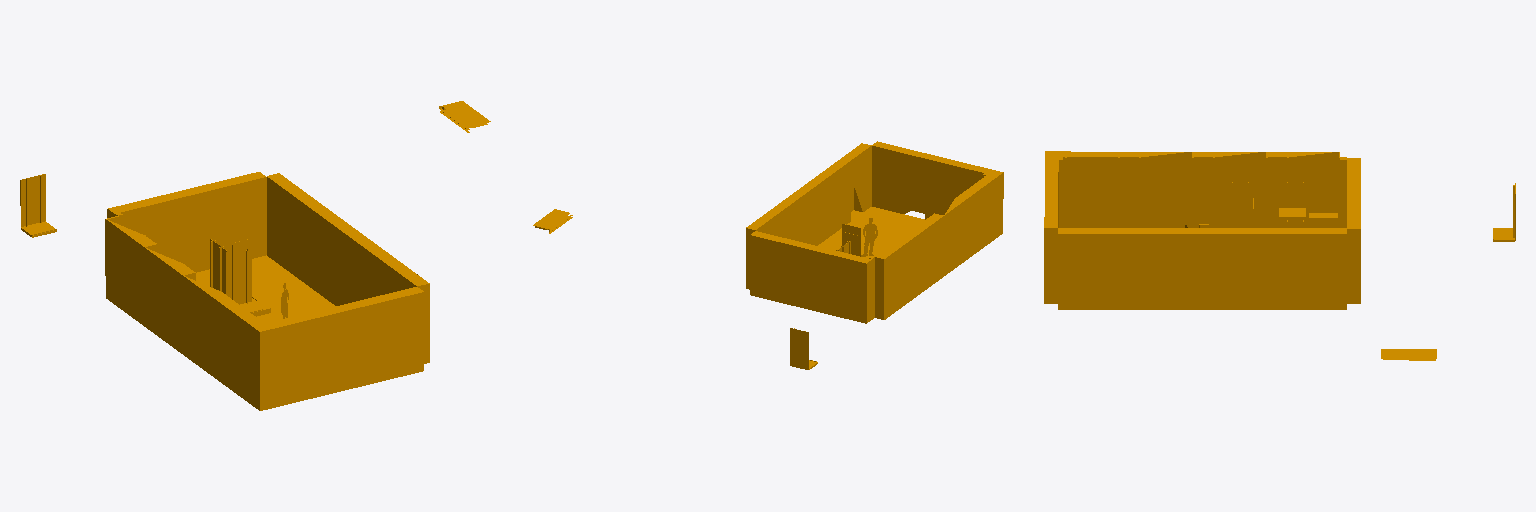
URDF robot description (store):
<?xml version="1.0" ?>
<robot name="store">
  <link name="store__link">
    <inertial>
      <mass value="1000"/>
      <origin xyz="0 0 0" rpy="0 0 0"/>
      <inertia ixx="1" ixy="0" ixz="0" iyy="1" iyz="0" izz="1"/>
    </inertial>
    <collision name="store__collision">
      <origin xyz="0 0 -0.8" rpy="1.57 0 1.57"/>
      <geometry>
        <mesh filename="store/7acf46d9-3dec-4537-8ca5-b4d5f6ac0d15.obj" scale="0.01 0.01 0.01"/>
      </geometry>
    </collision>
    <visual name="store__visual">
      <origin xyz="0 0 -0.8" rpy="1.57 0 1.57"/>
      <geometry>
        <mesh filename="store/7acf46d9-3dec-4537-8ca5-b4d5f6ac0d15.obj" scale="0.01 0.01 0.01"/>
      </geometry>
    </visual>
  </link>
</robot>

--- Facts derived from the render (not from the file) ---
3 views of the same robot in one strip: view 1: azimuth 30°, elevation 25°; view 2: azimuth 150°, elevation 25°; view 3: azimuth 270°, elevation 25° (orthographic).
Robot: store — 1 links, 0 joints (none); root link store__link; default pose: every joint at zero.
Visible links, largest first — view 1: store__link; view 2: store__link; view 3: store__link.
Link boxes in pixels (x1,y1,x2,y2): store__link: [20, 101, 490, 410]; store__link: [533, 141, 1003, 369]; store__link: [1044, 151, 1515, 360].
Bounding box of the posed robot: 16.17 × 16.93 × 3.01 m (x, y, z).
Meshes: 1 distinct files referenced, 1 mesh visuals loaded (1 OBJ).